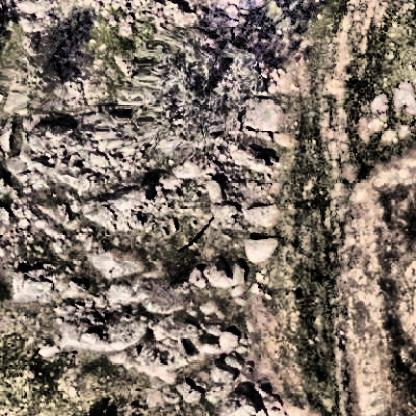tree-top: (131, 30, 259, 144), (17, 37, 70, 115)
